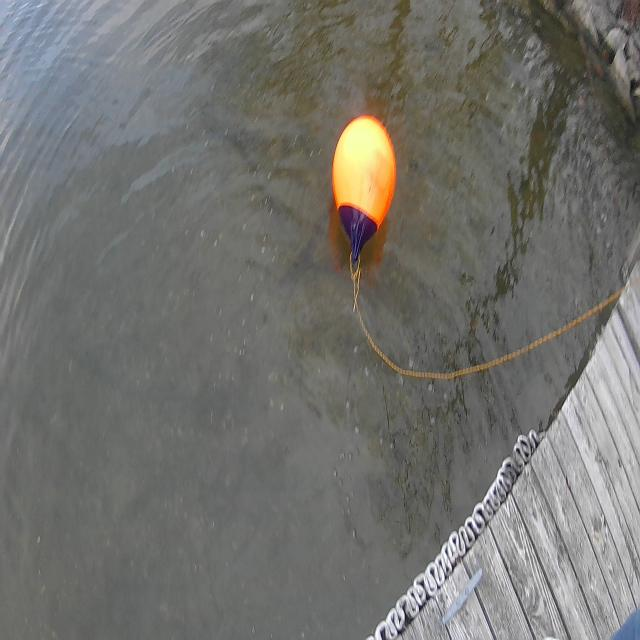Buoy: (331, 106, 398, 272)
